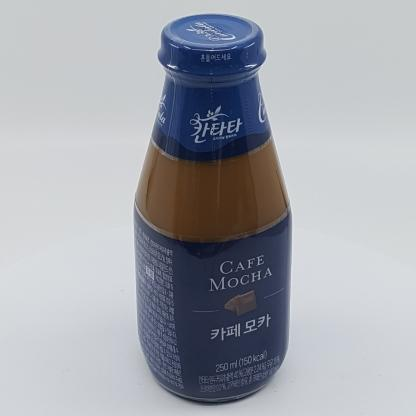------------250ML: (133, 13, 292, 402)
